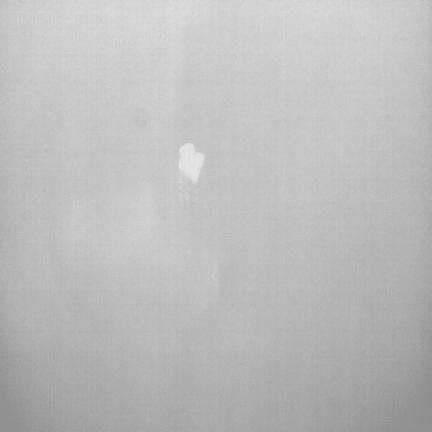flukeprints: (179, 143, 205, 184)
